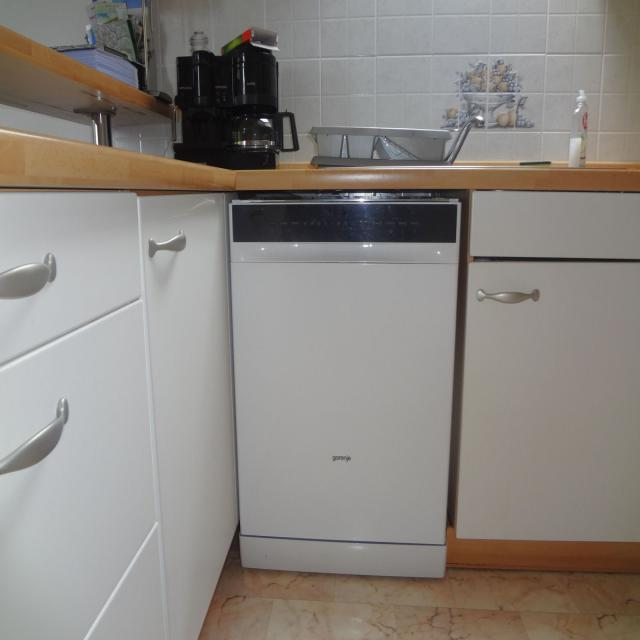dishwasher: (230, 194, 465, 583)
